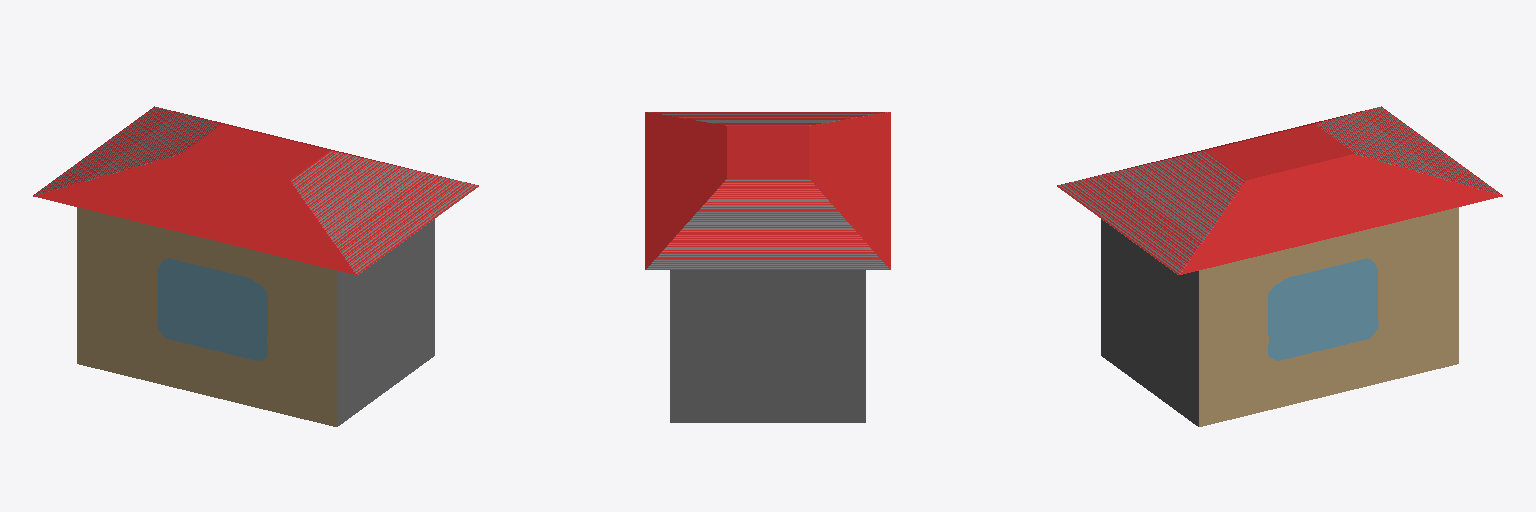
3 views of the same model, side by side, from view 1: azimuth 30°, elevation 25°; view 2: azimuth 150°, elevation 25°; view 3: azimuth 270°, elevation 25° (orthographic).
Parts seen in each view (by area): view 1: pCube1; view 2: pCube1; view 3: pCube1.
Part boxes in pixels (x1,y1,x2,y2): pCube1: (33,106,478,426); pCube1: (645,112,890,422); pCube1: (1057,106,1502,426).
Size of the model in its own units: 2.86 by 1.64 by 3.2.
Materials: 1 (1 with a texture image).